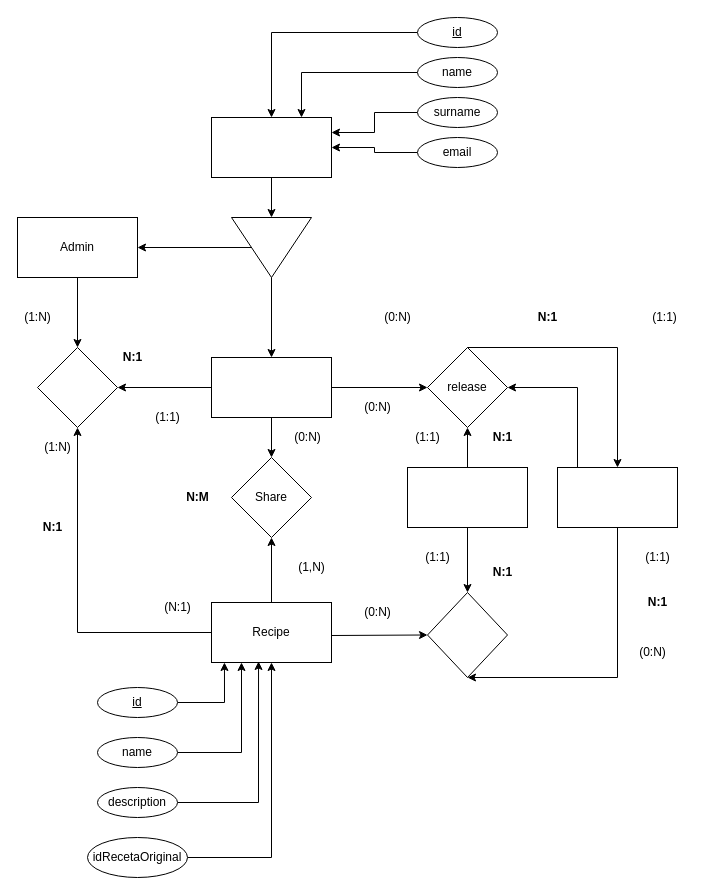
Some shapes in this 702 by 895 pixel diagram are drawn without their labels. The centre of each missing label's shape, as x and y in pixels:
"Comments" belongs at (x=467, y=497).
"Delete" belongs at (x=77, y=387).
"Have" belongs at (x=467, y=635).
"Likes" belongs at (x=617, y=497).
"Logged User" belongs at (x=271, y=387).
"Person" belongs at (x=271, y=147).
